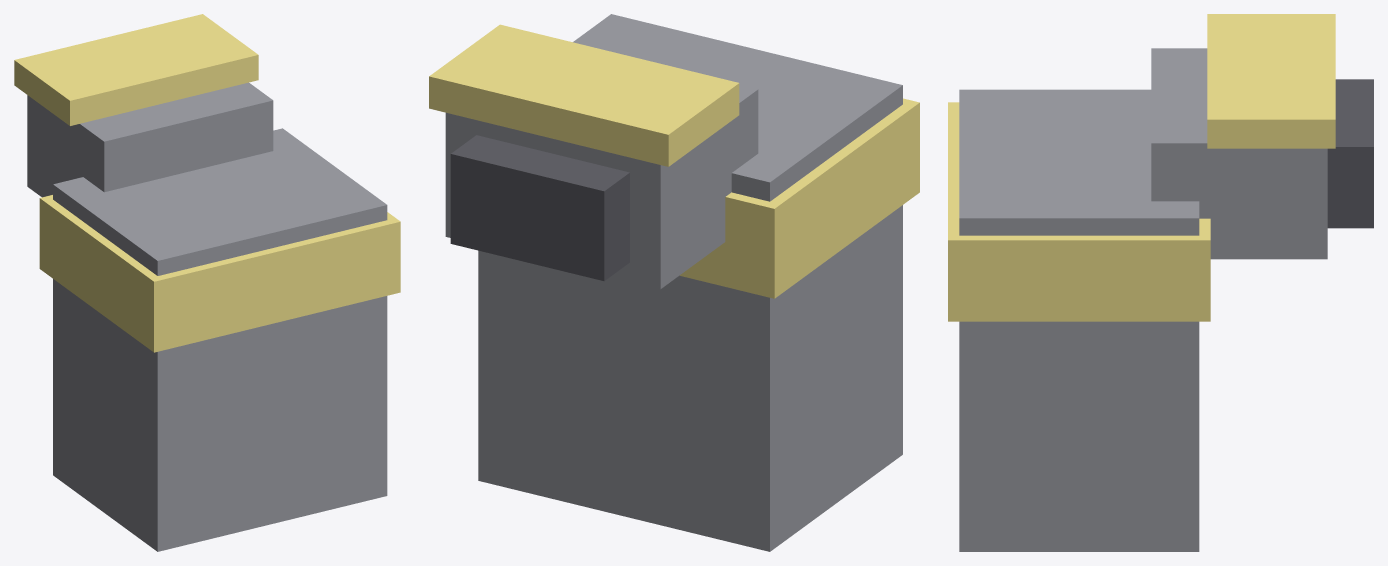
The model's file is intake_01_lo1.glb.
The picture shows the model from 3 angles, left to right: view 1: azimuth 30°, elevation 25°; view 2: azimuth 150°, elevation 25°; view 3: azimuth 270°, elevation 25°; orthographic projection. The views are drawn at different scales.
Parts seen in each view (by area): view 1: intake_01_lo1; view 2: intake_01_lo1; view 3: intake_01_lo1.
Boxes of the visible parts, <box> form: intake_01_lo1: <box>14,14,400,551</box>; intake_01_lo1: <box>429,14,919,551</box>; intake_01_lo1: <box>948,14,1373,551</box>.
Size of the model in its own units: 1.02 by 1.45 by 1.33.
